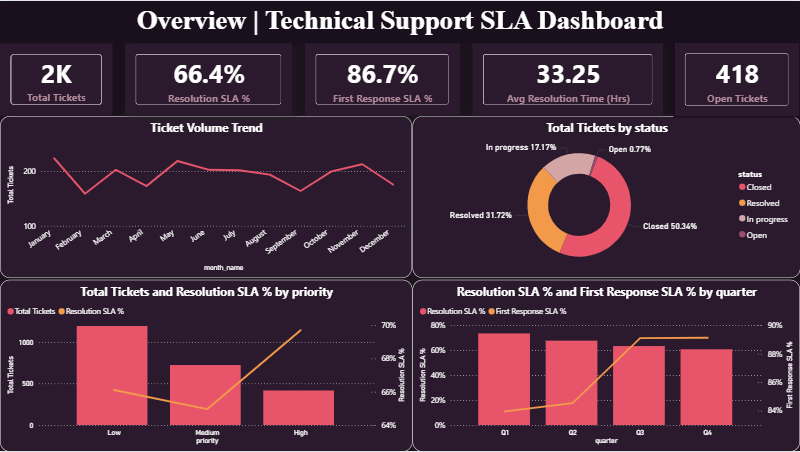

The dashboard page shown, as its layout file describes it:
{"tool":"powerbi","page":{"name":"Overview","canvas":[1280,720],"ordinal":0},"visuals":[{"type":"lineChart","title":"Ticket Volume Trend","fields":{"Y":["fact_tickets.Total Tickets"],"Category":["dim_date.month_name"]},"box":[0,184.9,659.3,259.3],"z":0},{"type":"donutChart","fields":{"Category":["fact_tickets.status"],"Y":["fact_tickets.Total Tickets"]},"box":[659.3,184.9,620.9,259.3],"z":1000},{"type":"lineClusteredColumnComboChart","fields":{"Category":["dim_priority.priority"],"Y":["fact_tickets.Total Tickets"],"Y2":["fact_tickets.Resolution SLA %"]},"box":[0,445,660,275],"z":2000},{"type":"lineClusteredColumnComboChart","fields":{"Category":["dim_date.quarter"],"Y":["fact_tickets.Resolution SLA %"],"Y2":["fact_tickets.First Response SLA %"]},"box":[660,445,620,275],"z":3000},{"type":"cardVisual","fields":{"Data":["fact_tickets.Total Tickets"]},"box":[0,67.5,180,115],"z":4000},{"type":"cardVisual","fields":{"Data":["fact_tickets.Resolution SLA %"]},"box":[200,67.5,267.5,115],"z":5000},{"type":"cardVisual","fields":{"Data":["fact_tickets.First Response SLA %"]},"box":[487.2,67.4,247.7,115.1],"z":6000},{"type":"cardVisual","fields":{"Data":["fact_tickets.Avg Resolution Time (Hrs)"]},"box":[755,67.5,305,115],"z":7000},{"type":"cardVisual","fields":{"Data":["fact_tickets.Open Tickets"]},"box":[1078,66,202,120],"z":8000},{"type":"textbox","box":[0,0,1280,67.5],"z":9000}]}

Visuals, with their boxes in screenshot pixels (x1, y1, x2, y2), scaled from the page's 1280x720 canvas onto the 800x452 screenshot:
"Ticket Volume Trend" lineChart: rect(0, 116, 412, 279)
donutChart - fact_tickets.status x fact_tickets.Total Tickets: rect(412, 116, 799, 279)
lineClusteredColumnComboChart - dim_priority.priority x fact_tickets.Total Tickets: rect(0, 279, 412, 451)
lineClusteredColumnComboChart - dim_date.quarter x fact_tickets.Resolution SLA %: rect(412, 279, 799, 451)
cardVisual - fact_tickets.Total Tickets: rect(0, 42, 112, 115)
cardVisual - fact_tickets.Resolution SLA %: rect(125, 42, 292, 115)
cardVisual - fact_tickets.First Response SLA %: rect(304, 42, 459, 115)
cardVisual - fact_tickets.Avg Resolution Time (Hrs): rect(472, 42, 662, 115)
cardVisual - fact_tickets.Open Tickets: rect(674, 41, 799, 117)
textbox: rect(0, 0, 799, 42)
